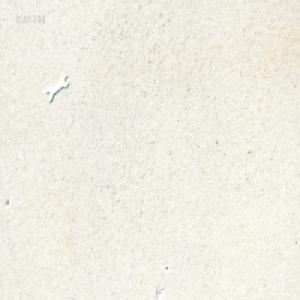Wrench: (46, 72, 69, 103)
